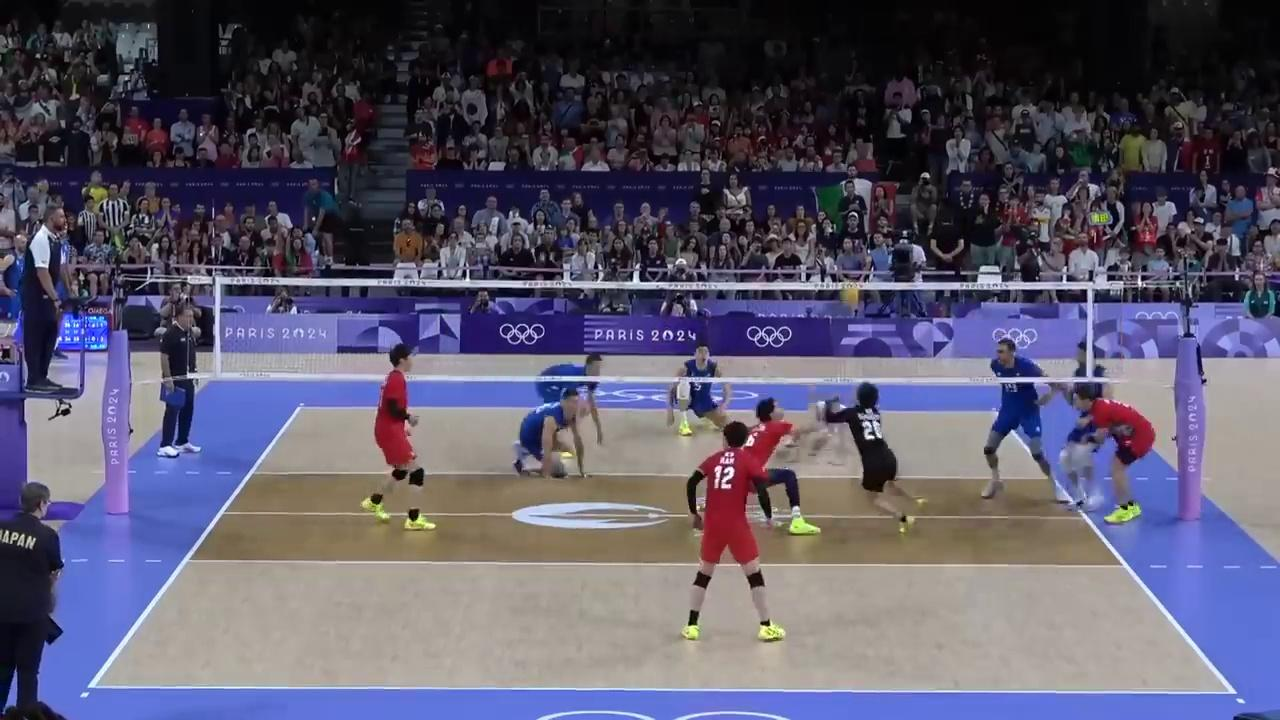ball: (839, 288, 861, 308)
